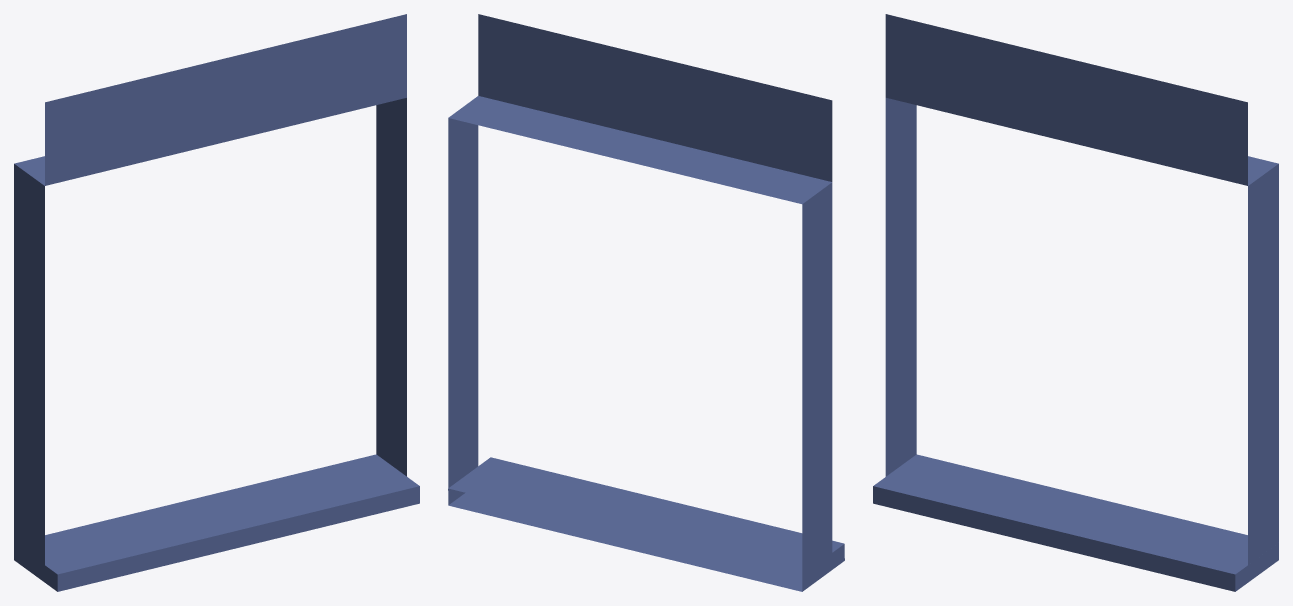
File: Itr_Wall_Color_09(for_window).FBX
The picture shows the model from 3 angles, left to right: view 1: azimuth 30°, elevation 25°; view 2: azimuth 150°, elevation 25°; view 3: azimuth 330°, elevation 25°; orthographic projection. The views are drawn at different scales.
Parts seen in each view (by area): view 1: Itr_Wall_Color_09(for_window); view 2: Itr_Wall_Color_09(for_window); view 3: Itr_Wall_Color_09(for_window).
Boxes of the visible parts, x1,y1,x2,y2 form: Itr_Wall_Color_09(for_window): (14, 14, 419, 591); Itr_Wall_Color_09(for_window): (448, 14, 844, 591); Itr_Wall_Color_09(for_window): (873, 14, 1278, 591).
Bounding box in the file's own units: 65.28 × 82.71 × 13.59.
